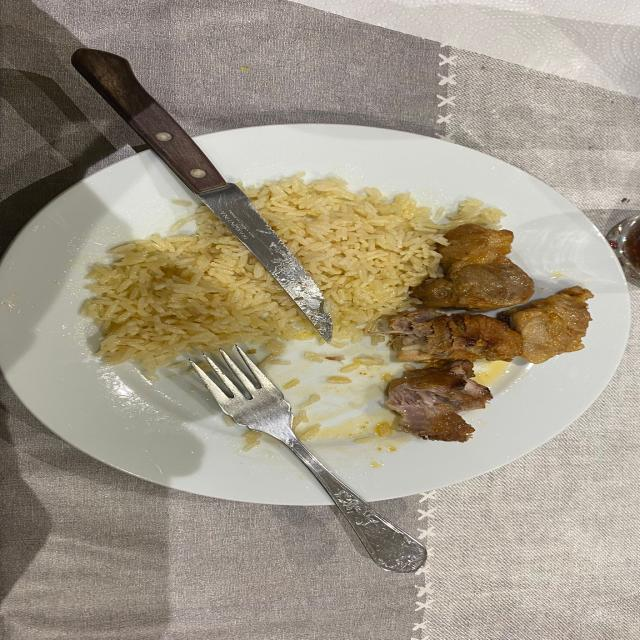fork: (189, 345, 426, 572)
knife: (71, 48, 333, 341)
plate: (0, 125, 629, 505)
pork: (380, 224, 593, 442)
rice: (240, 173, 502, 342), (82, 207, 315, 371)
